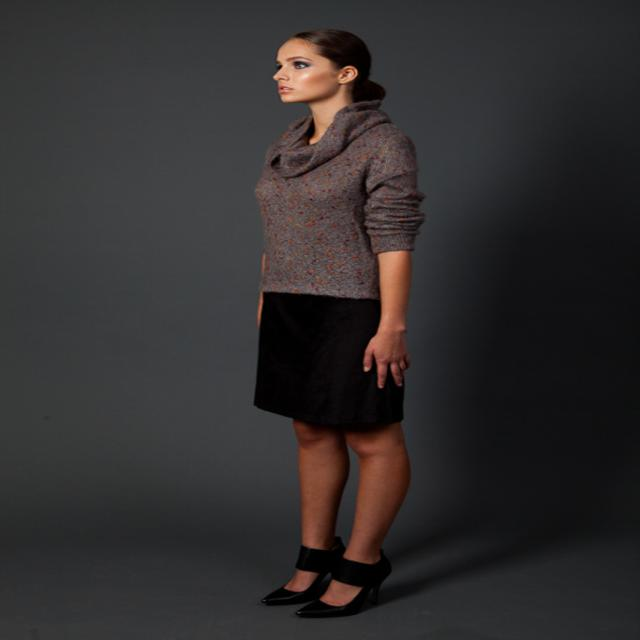no_helmet: (273, 14, 354, 88)
